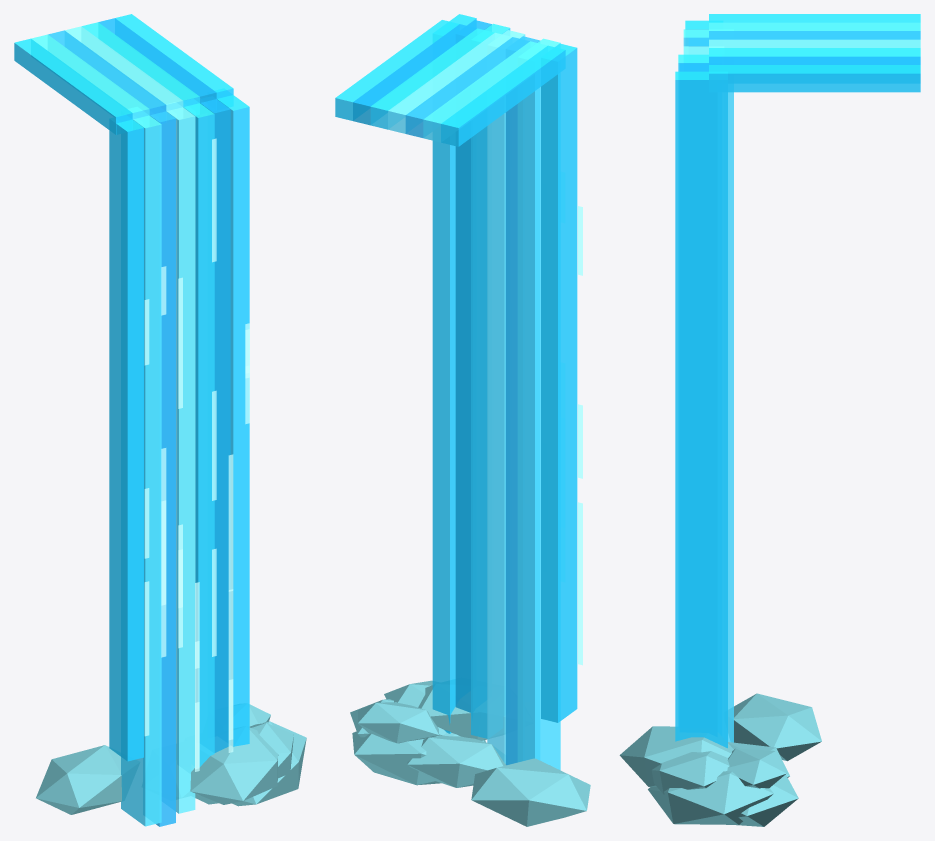
The model's file is narrow-waterfall-water.glb.
3 views of the same model, side by side, from view 1: azimuth 30°, elevation 25°; view 2: azimuth 150°, elevation 25°; view 3: azimuth 270°, elevation 25° (orthographic). The views are drawn at different scales.
Parts seen in each view (by area): view 1: Narrow_Waterfall; view 2: Narrow_Waterfall; view 3: Narrow_Waterfall.
Boxes of the visible parts, x1,y1,x2,y2 form: Narrow_Waterfall: (14, 14, 306, 826); Narrow_Waterfall: (335, 14, 590, 826); Narrow_Waterfall: (619, 14, 920, 826).
Size of the model in its own units: 1.01 by 2.8 by 1.03.
